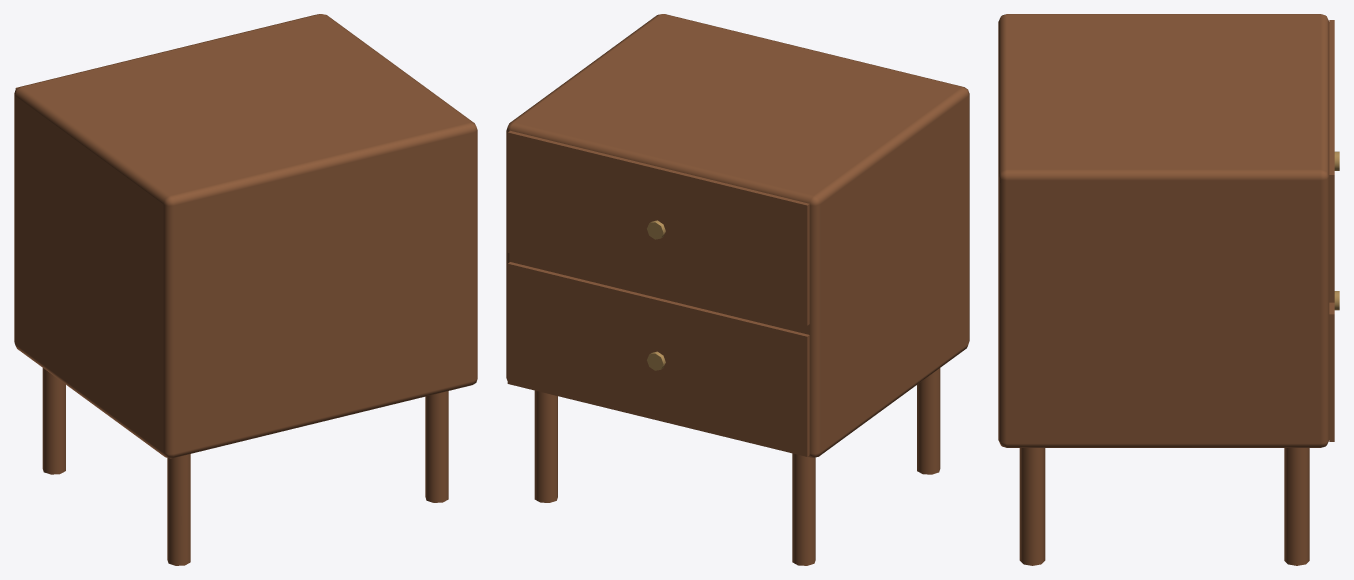
3 renders of one model, left to right at view 1: azimuth 30°, elevation 25°; view 2: azimuth 150°, elevation 25°; view 3: azimuth 270°, elevation 25°, orthographic. The views are drawn at different scales.
Parts seen in each view (by area): view 1: body, leg-3, leg-4, leg-1; view 2: body, drawer-top, drawer-bottom, leg-1, leg-2, leg-3; view 3: body, leg-4, leg-2, drawer-top, drawer-bottom.
Boxes of the visible parts, x1,y1,x2,y2 form: body: (14, 14, 477, 458); leg-3: (167, 454, 190, 565); leg-4: (425, 391, 448, 502); leg-1: (42, 368, 65, 474); body: (506, 14, 969, 457); drawer-top: (507, 130, 809, 325); drawer-bottom: (507, 262, 809, 456); leg-1: (792, 453, 815, 565); leg-2: (534, 390, 557, 502); leg-3: (917, 368, 940, 474); body: (998, 14, 1329, 447); leg-4: (1019, 448, 1045, 565); leg-2: (1284, 448, 1309, 565); drawer-top: (1329, 20, 1334, 302); drawer-bottom: (1329, 302, 1334, 441).
Bounding box in the file's own units: 0.45 × 0.52 × 0.4.
